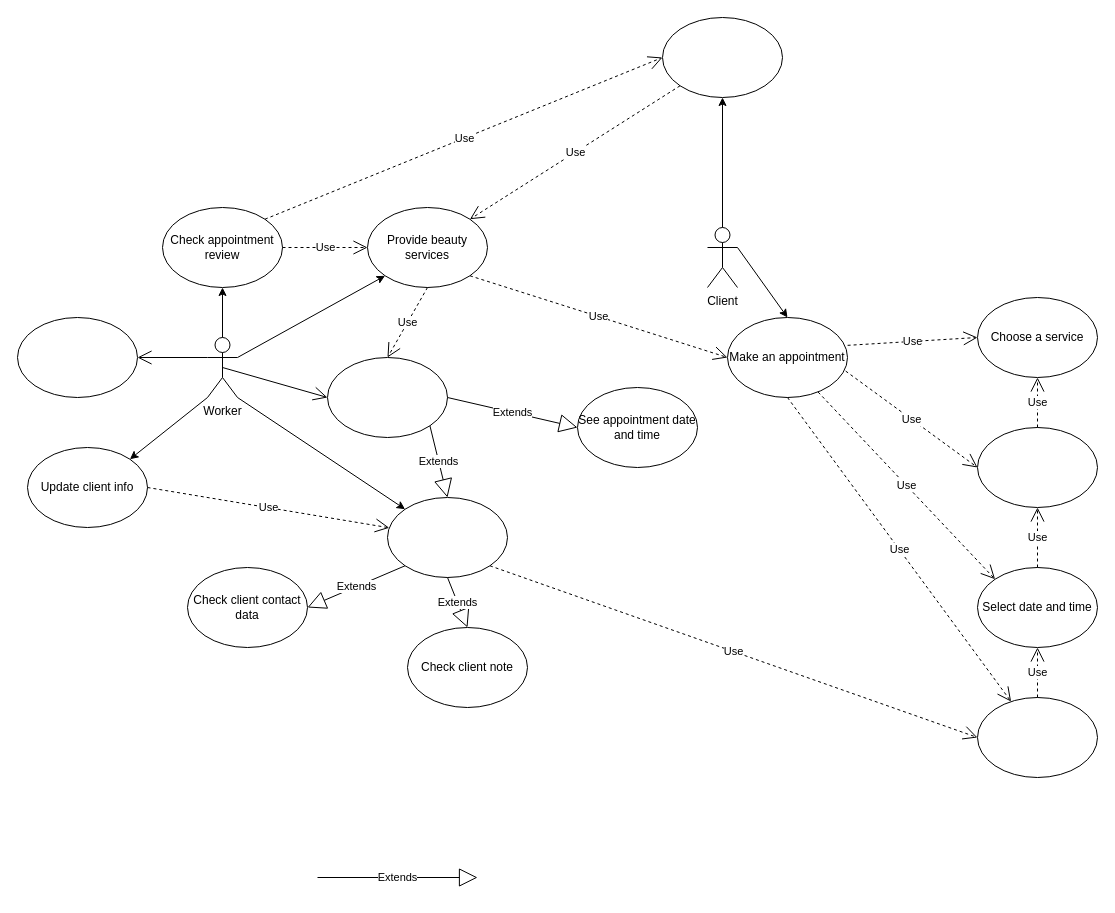
Some shapes in this 1115 by 913 pixel diagram are drawn without their labels. Here are the shapes that lost their labels. From the top down, the box of each, then its label:
(662, 16, 782, 98): Leave a review
(16, 316, 138, 398): Ask for inventory info
(326, 356, 448, 438): See appointments info
(976, 426, 1098, 508): Select worker
(386, 496, 508, 578): Check client info
(976, 696, 1098, 778): Fill the form (full name, phone number, email)
